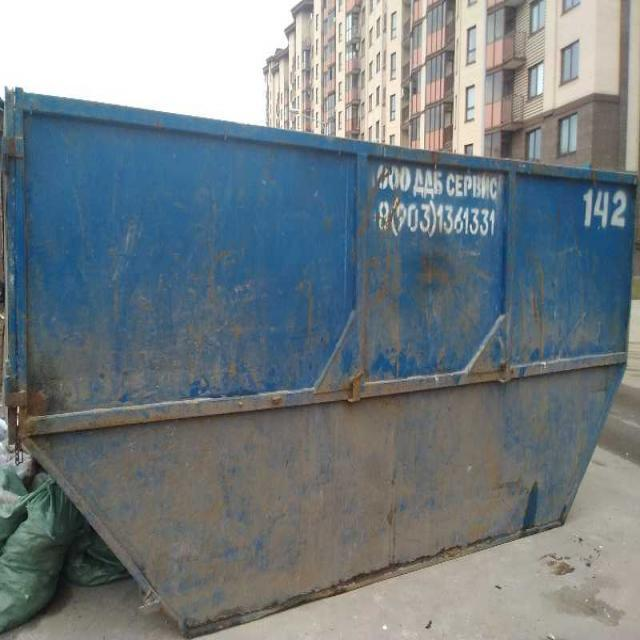Dumpster: (1, 90, 639, 634)
